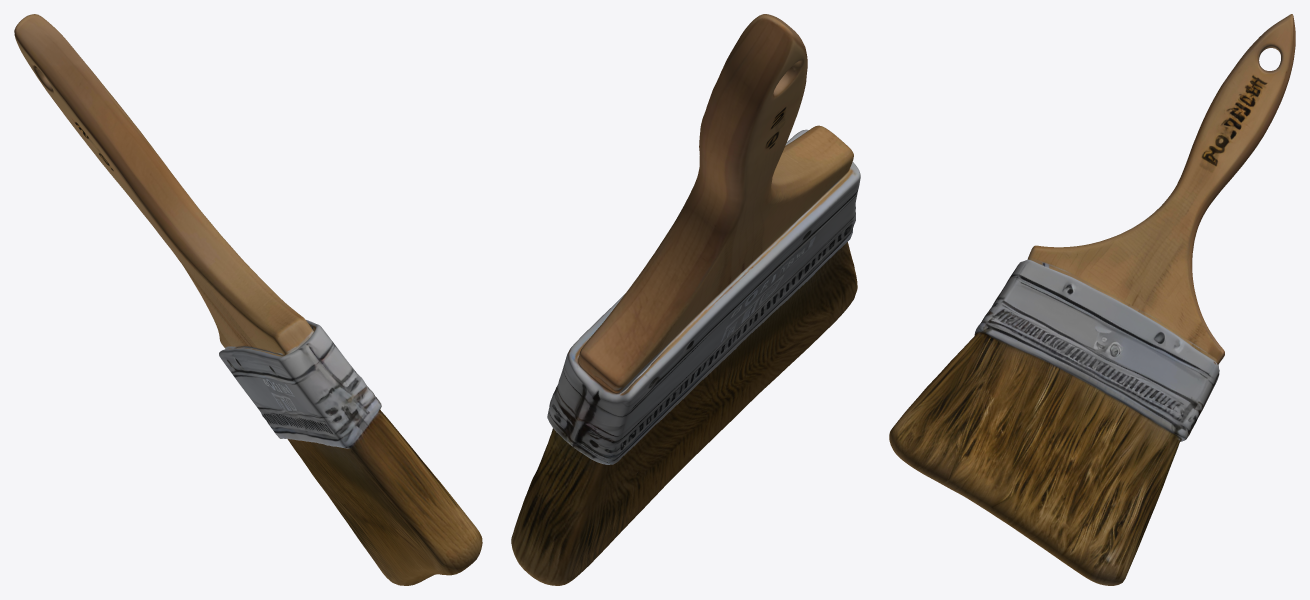
Rendered from Brush.fbx.
3 views of the same model, side by side, from view 1: azimuth 30°, elevation 25°; view 2: azimuth 150°, elevation 25°; view 3: azimuth 270°, elevation 25° (orthographic). The views are drawn at different scales.
Visible parts, largest first — view 1: tripo_node_3bec08ed; view 2: tripo_node_3bec08ed; view 3: tripo_node_3bec08ed.
Part boxes in pixels (x1,y1,x2,y2): tripo_node_3bec08ed: (14, 14, 482, 585); tripo_node_3bec08ed: (511, 14, 860, 585); tripo_node_3bec08ed: (889, 14, 1295, 585).
Bounding box in the file's own units: 58.54 × 99.98 × 79.73.
Materials: 1 (1 with a texture image).
